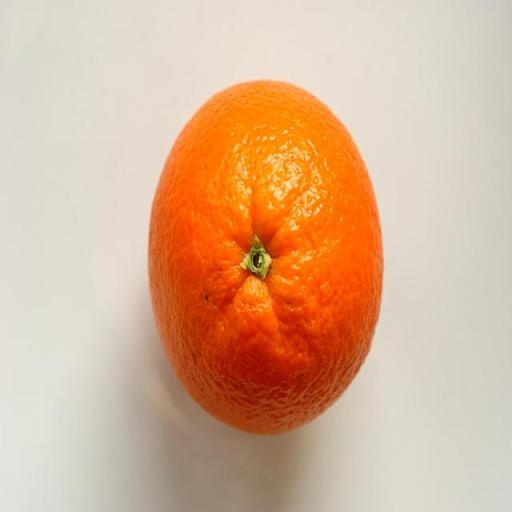fruit: (148, 81, 381, 433)
